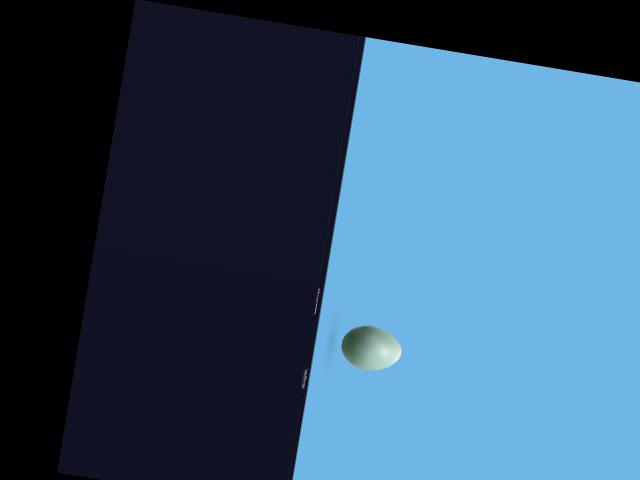egg: (338, 321, 405, 374)
